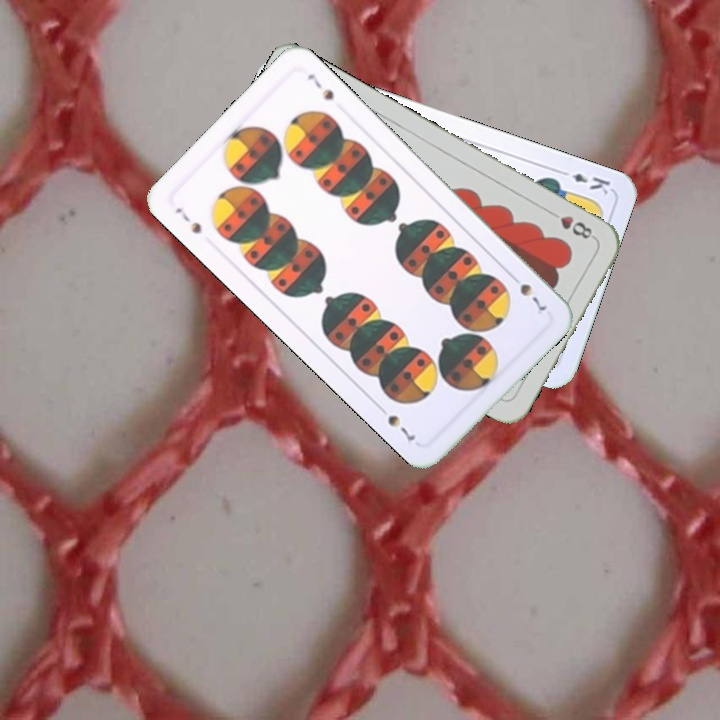EK: (555, 165, 613, 197)
H8: (544, 206, 598, 242)
S7: (505, 269, 549, 314), (171, 203, 204, 237)
